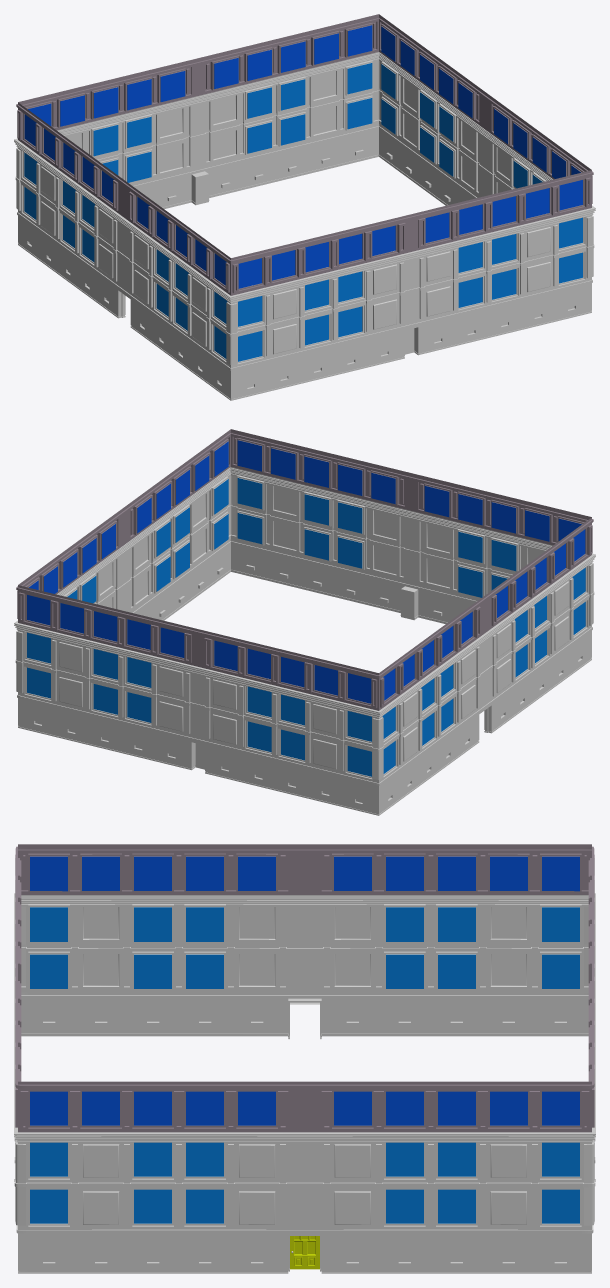
The model's file is FBX_Appartement type 2.fbx.
The picture shows the model from 3 angles, top to bottom: view 1: azimuth 30°, elevation 25°; view 2: azimuth 150°, elevation 25°; view 3: azimuth 270°, elevation 25°; orthographic projection. The views are drawn at different scales.
Visible parts, largest first — view 1: Appartment_Type 2_Low, Appartment -Type 2_Top; view 2: Appartment_Type 2_Low, Appartment -Type 2_Top; view 3: Appartment_Type 2_Low, Appartment -Type 2_Top, Appartment-Type2_Door.
Boxes of the visible parts, x1,y1,x2,y2 form: Appartment_Type 2_Low: (14,52,595,400); Appartment -Type 2_Top: (16,14,593,295); Appartment_Type 2_Low: (14,467,595,815); Appartment -Type 2_Top: (16,429,593,710); Appartment_Type 2_Low: (14,893,595,1273); Appartment -Type 2_Top: (15,844,594,1132); Appartment-Type2_Door: (290,1236,319,1269).
Size of the model in its own units: 27.37 by 10.2 by 27.98.
